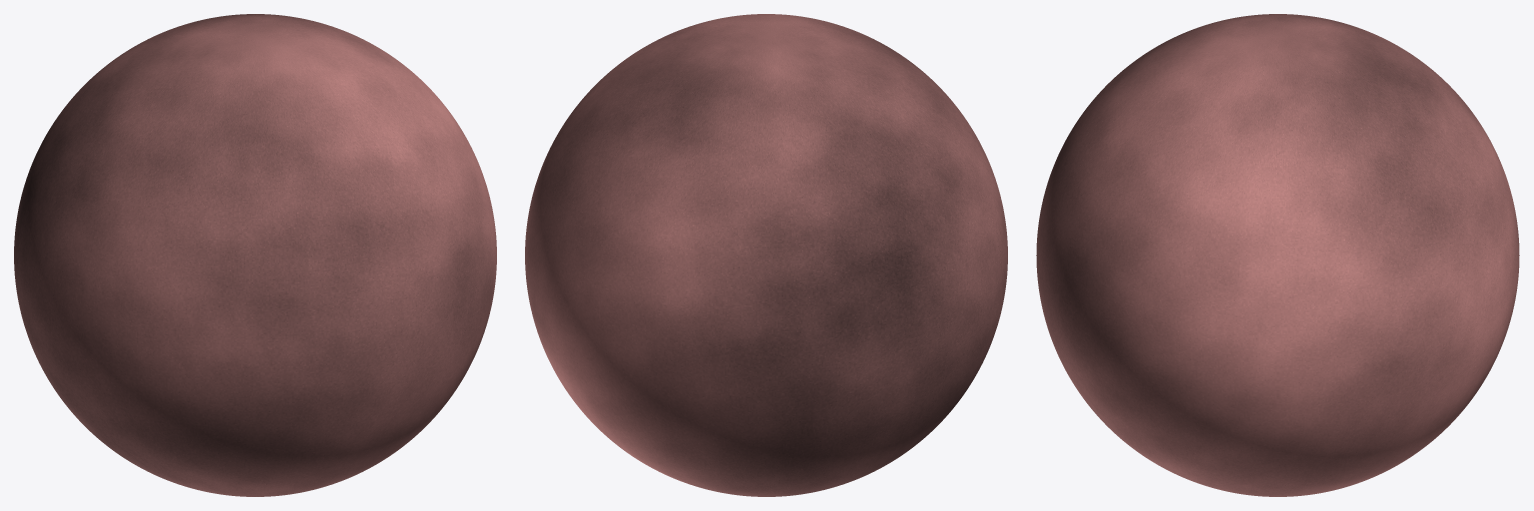
File: smooth-red.glb
3 renders of one model, left to right at view 1: azimuth 30°, elevation 25°; view 2: azimuth 150°, elevation 25°; view 3: azimuth 270°, elevation 25°, orthographic.
Parts seen in each view (by area): view 1: smooth-red; view 2: smooth-red; view 3: smooth-red.
Boxes of the visible parts, left/top/right/bottom form: smooth-red: left=14, top=14, right=496, bottom=496; smooth-red: left=525, top=14, right=1007, bottom=496; smooth-red: left=1036, top=14, right=1519, bottom=496.
Size of the model in its own units: 2 by 2 by 2.
Materials: 1 (1 with a texture image).
